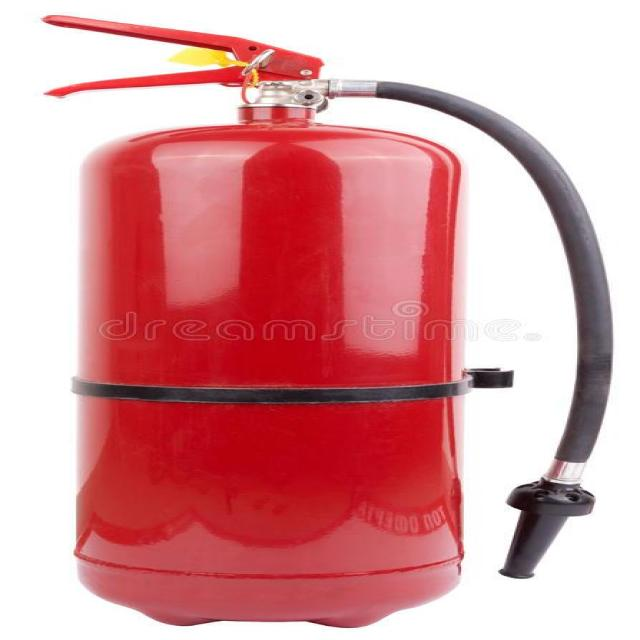fire_extinguisher: (31, 11, 622, 638)
